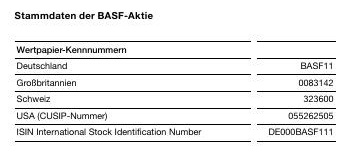table: (0, 0, 348, 155)
